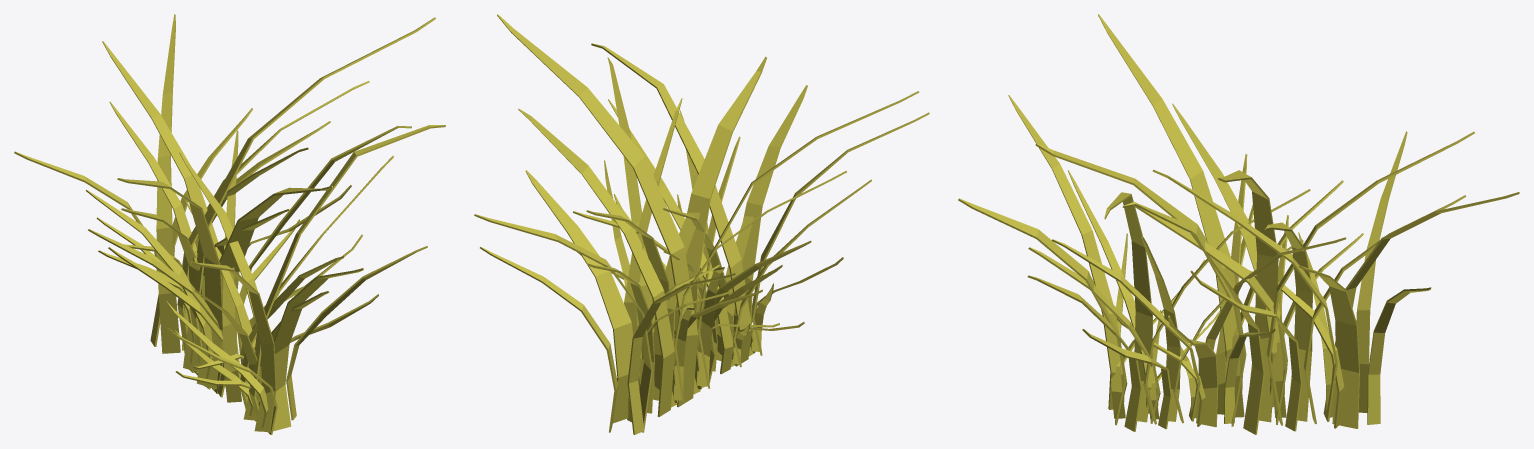
Rendered from akigrass.fbx.
3 views of the same model, side by side, from view 1: azimuth 30°, elevation 25°; view 2: azimuth 150°, elevation 25°; view 3: azimuth 270°, elevation 25° (orthographic). The views are drawn at different scales.
Parts seen in each view (by area): view 1: Plane; view 2: Plane; view 3: Plane.
Boxes of the visible parts, x1,y1,x2,y2 form: Plane: (14,14,445,434); Plane: (474,14,929,434); Plane: (958,14,1519,434).
Bounding box in the file's own units: 227 × 192 × 277.
